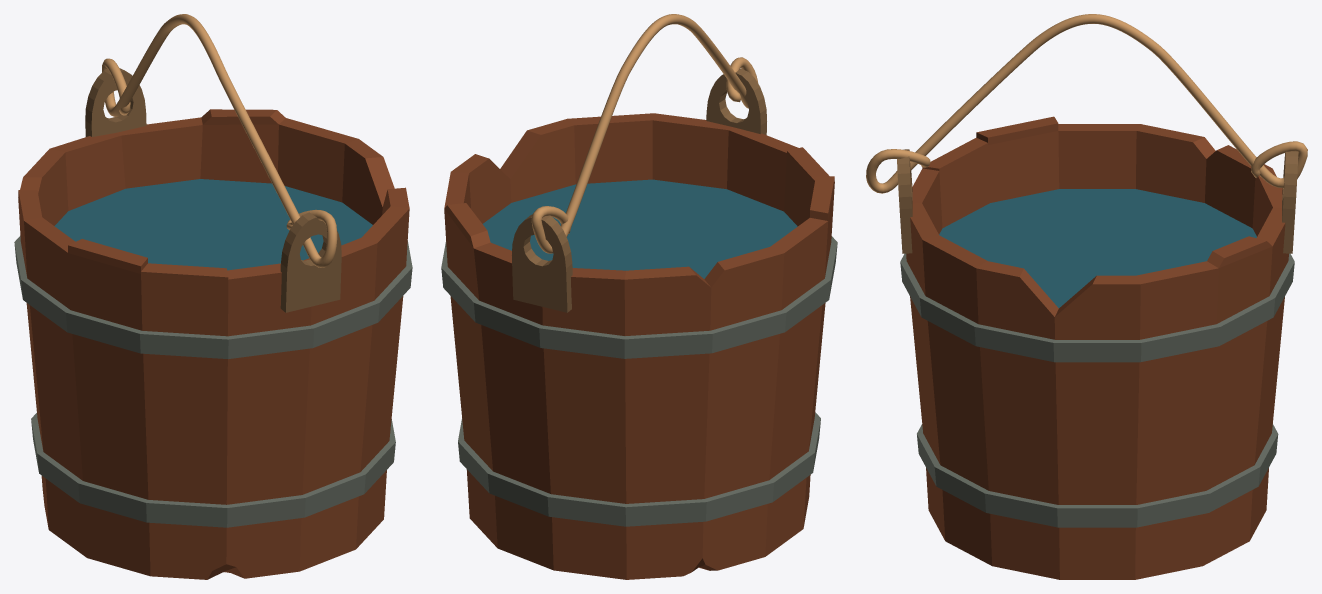
File: bucket (water).fbx
3 views of the same model, side by side, from view 1: azimuth 30°, elevation 25°; view 2: azimuth 150°, elevation 25°; view 3: azimuth 270°, elevation 25° (orthographic). The views are drawn at different scales.
Parts seen in each view (by area): view 1: Cylinder.003; view 2: Cylinder.003; view 3: Cylinder.003.
Boxes of the visible parts, x1=… form: Cylinder.003: x1=14, y1=14, x2=412, y2=579; Cylinder.003: x1=441, y1=14, x2=837, y2=579; Cylinder.003: x1=866, y1=14, x2=1307, y2=579.
Size of the model in its own units: 228 by 317 by 262.
